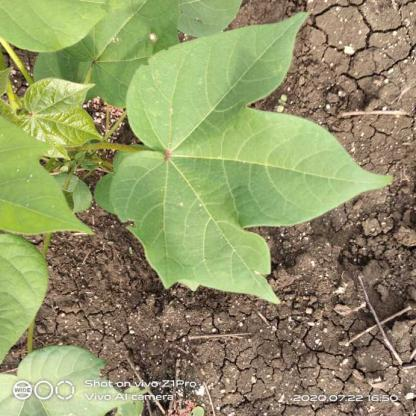cotton: (115, 16, 397, 314)
